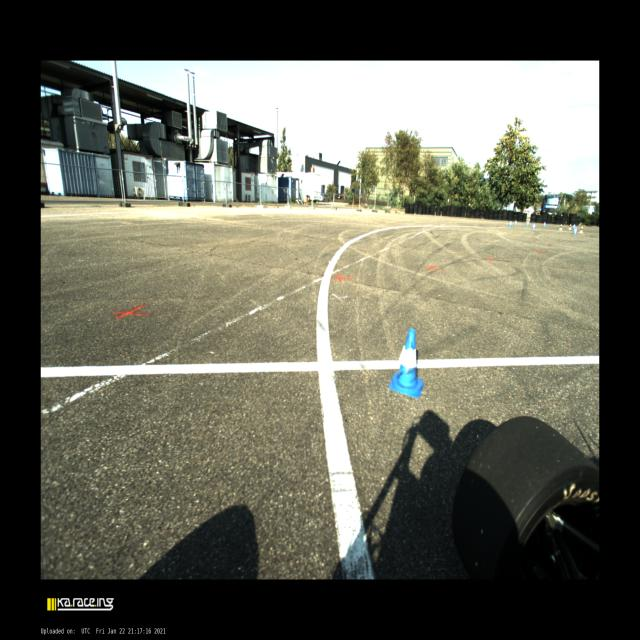blue_cone: (388, 328, 424, 398), (508, 220, 512, 227), (531, 223, 535, 230), (573, 228, 577, 234), (514, 220, 518, 225), (526, 220, 529, 226), (573, 223, 576, 228), (543, 222, 546, 226)
yellow_cone: (568, 223, 572, 230), (579, 226, 583, 233), (558, 224, 562, 230)
